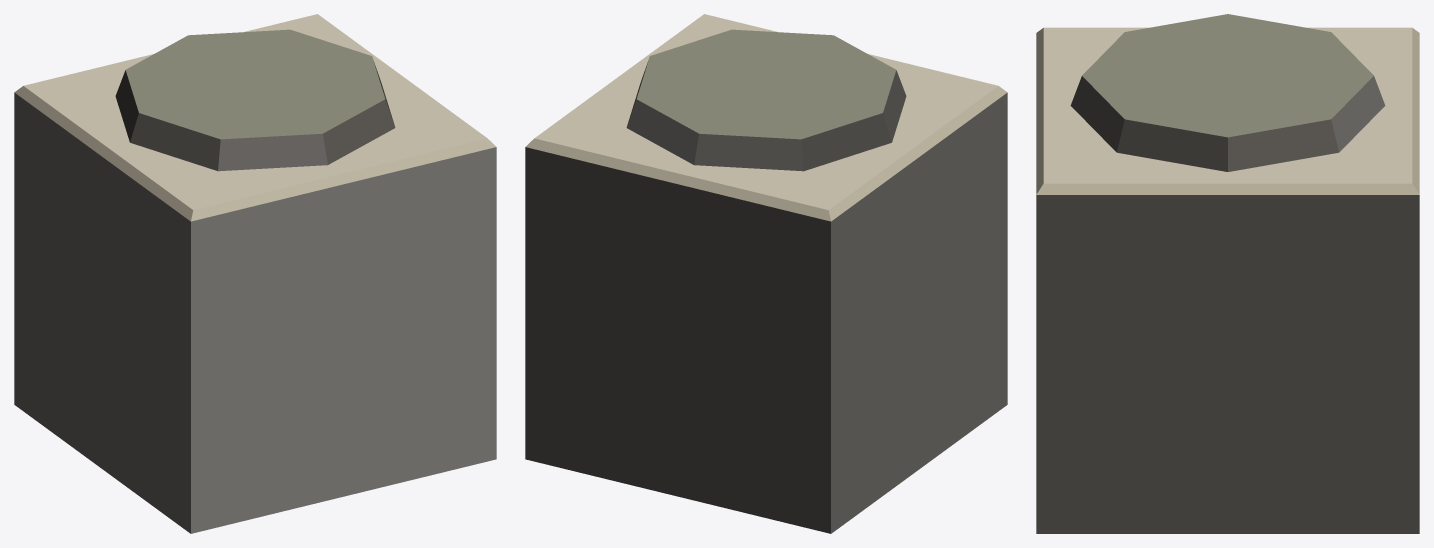
The model's file is base_slate.FBX.
3 renders of one model, left to right at view 1: azimuth 30°, elevation 25°; view 2: azimuth 150°, elevation 25°; view 3: azimuth 270°, elevation 25°, orthographic. The views are drawn at different scales.
Visible parts, largest first — view 1: base_slate; view 2: base_slate; view 3: base_slate.
Part boxes in pixels (box(x1,y1,x2,y2)): base_slate: box(14, 14, 496, 533); base_slate: box(525, 14, 1007, 533); base_slate: box(1036, 14, 1419, 533).
Size of the model in its own units: 100 by 109 by 100.
